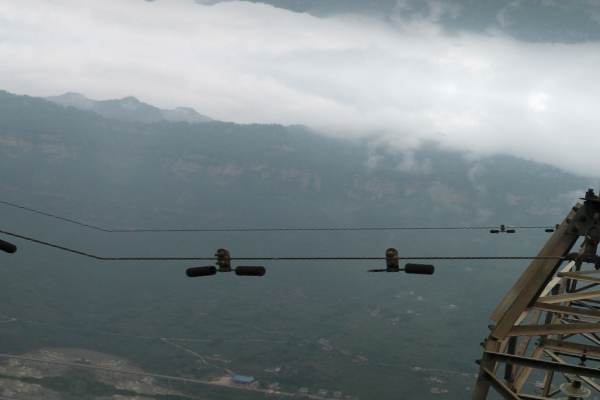damper: (182, 246, 267, 278), (487, 223, 517, 236)
damper_defect: (364, 246, 436, 276)
